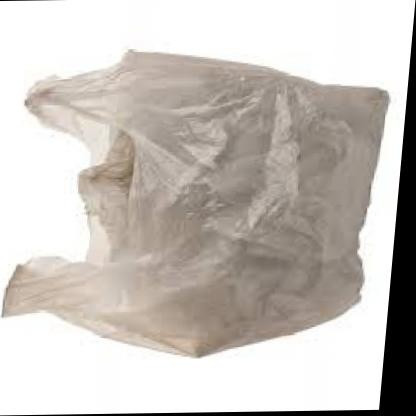trash: (4, 51, 387, 355)
